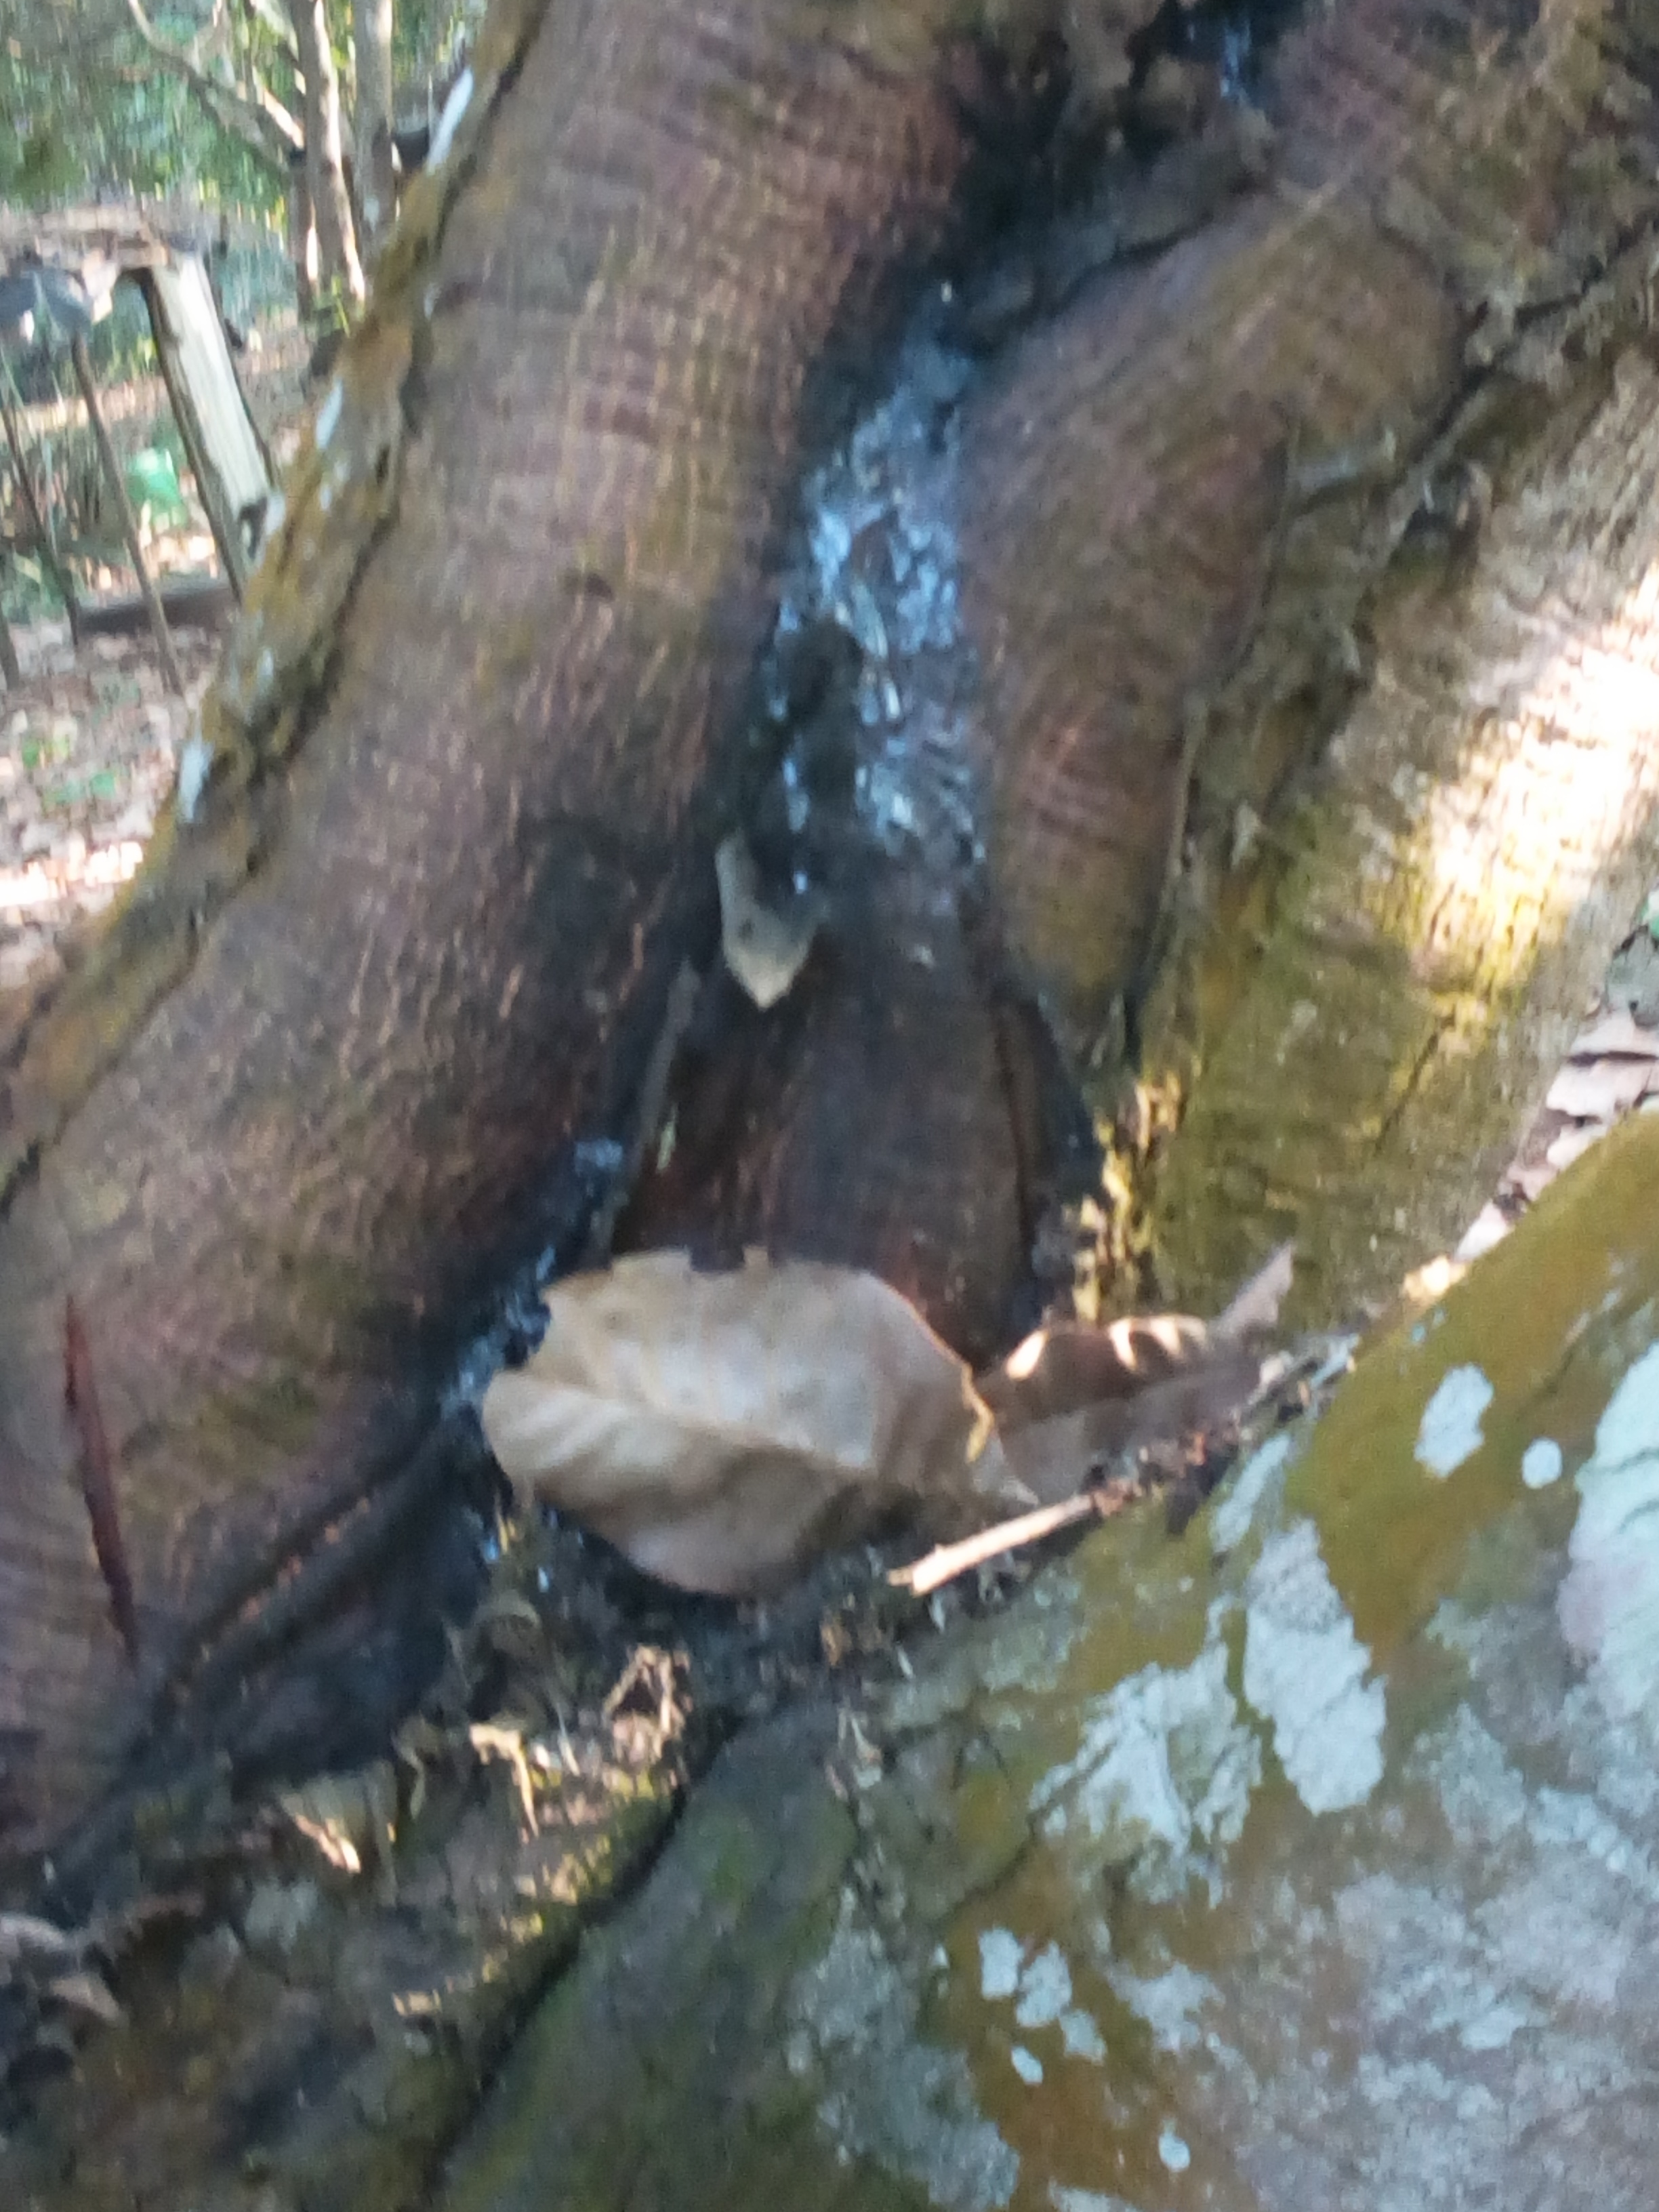Gommose: (159, 1181, 684, 1814), (731, 293, 1053, 1025)
